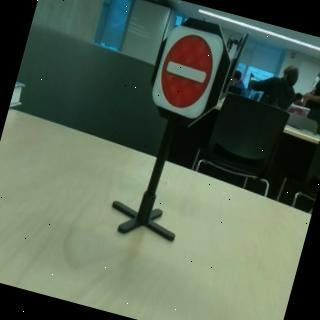sign_noentry: (146, 22, 228, 125)
